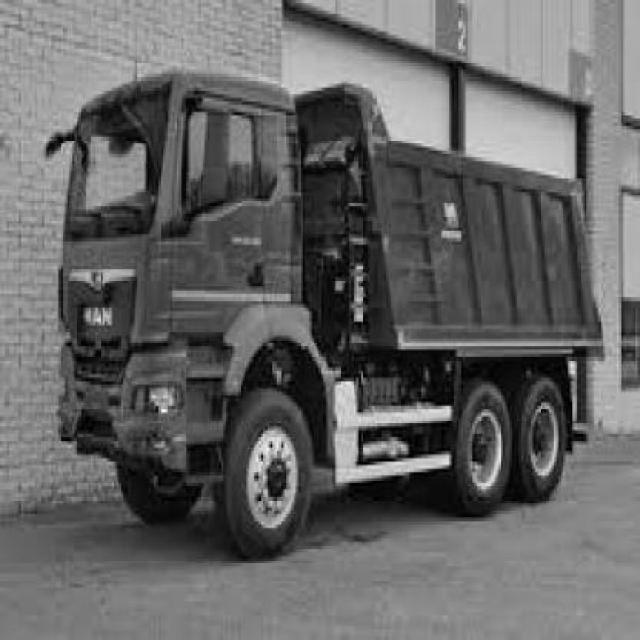Truck- Multi-Axle: (46, 67, 606, 564)
